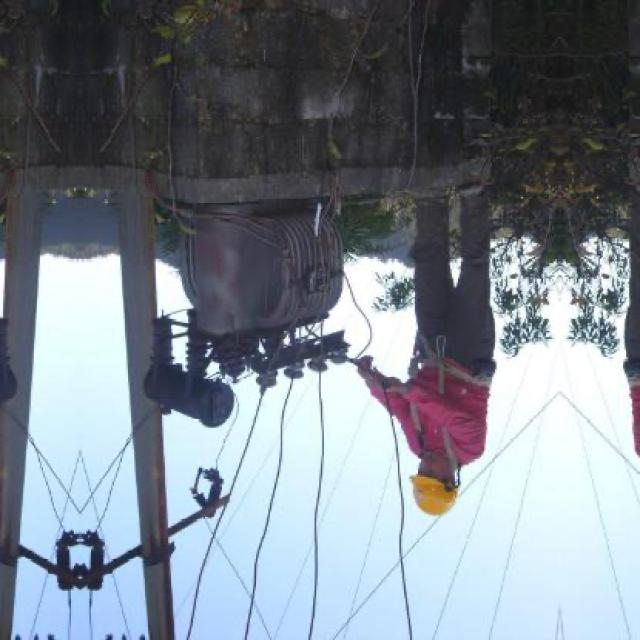con casco: (382, 375, 508, 535)
